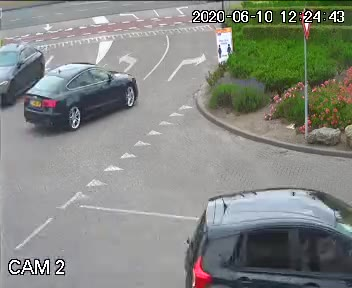car: (170, 182, 352, 288), (27, 57, 155, 129), (0, 37, 53, 117)
